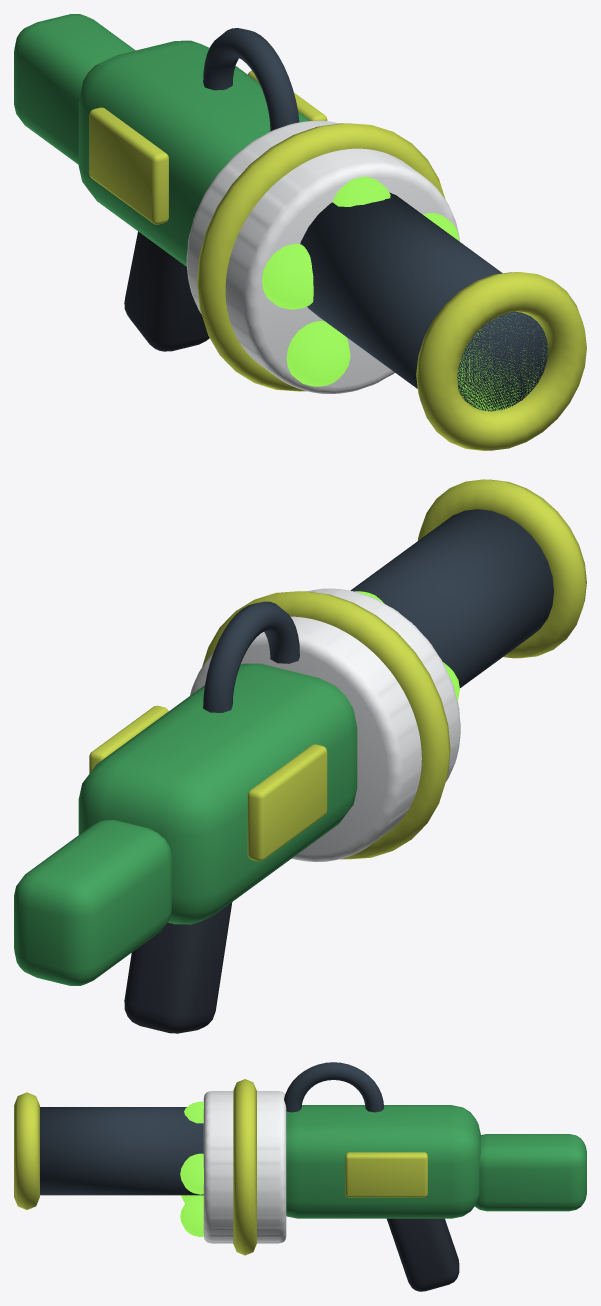
Rendered from wpn_lobber.glb.
3 renders of one model, top to bottom at view 1: azimuth 30°, elevation 25°; view 2: azimuth 150°, elevation 25°; view 3: azimuth 270°, elevation 25°, orthographic. The views are drawn at different scales.
Visible parts, largest first — view 1: barrel, drum, body, lip, drum_band, stock, grip, vent_R, top_handle, bomb_3, bomb_2, lip_glow (+1 smaller); view 2: body, barrel, drum, stock, drum_band, grip, lip, vent_R, top_handle, vent_L; view 3: body, barrel, drum, stock, drum_band, grip, vent_L, lip, top_handle, bomb_4, bomb_0, bomb_1.
Part boxes in pixels (x1=…): barrel: x1=300, y1=192, x2=548, y2=411; drum: x1=186, y1=120, x2=459, y2=393; body: x1=78, y1=40, x2=310, y2=266; lip: x1=416, y1=272, x2=586, y2=450; drum_band: x1=197, y1=123, x2=445, y2=391; stock: x1=14, y1=14, x2=135, y2=164; grip: x1=124, y1=231, x2=209, y2=351; vent_R: x1=89, y1=107, x2=168, y2=224; top_handle: x1=203, y1=28, x2=299, y2=131; bomb_3: x1=286, y1=320, x2=350, y2=386; bomb_2: x1=262, y1=243, x2=313, y2=309; lip_glow: x1=457, y1=313, x2=547, y2=411; body: x1=78, y1=663, x2=357, y2=924; barrel: x1=350, y1=509, x2=553, y2=687; drum: x1=190, y1=588, x2=460, y2=861; stock: x1=14, y1=820, x2=171, y2=985; drum_band: x1=202, y1=591, x2=450, y2=859; grip: x1=124, y1=902, x2=232, y2=1033; lip: x1=418, y1=479, x2=586, y2=658; vent_R: x1=247, y1=744, x2=327, y2=861; top_handle: x1=203, y1=601, x2=299, y2=712; vent_L: x1=89, y1=705, x2=168, y2=773; body: x1=286, y1=1105, x2=480, y2=1218; barrel: x1=40, y1=1107, x2=203, y2=1195; drum: x1=203, y1=1091, x2=286, y2=1243; stock: x1=475, y1=1134, x2=586, y2=1211; drum_band: x1=233, y1=1079, x2=256, y2=1255; grip: x1=387, y1=1218, x2=459, y2=1291; vent_L: x1=345, y1=1152, x2=427, y2=1197; lip: x1=14, y1=1092, x2=39, y2=1209; top_handle: x1=284, y1=1062, x2=384, y2=1112; bomb_4: x1=180, y1=1196, x2=203, y2=1236; bomb_0: x1=180, y1=1153, x2=203, y2=1194; bomb_1: x1=184, y1=1101, x2=203, y2=1123.
Bounding box in the file's own units: 0.3 × 0.4192 × 0.972.
